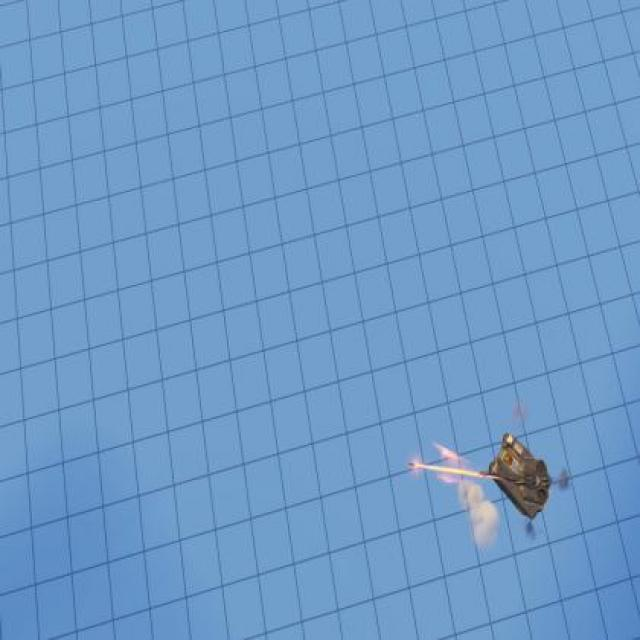tank: (476, 428, 554, 521)
